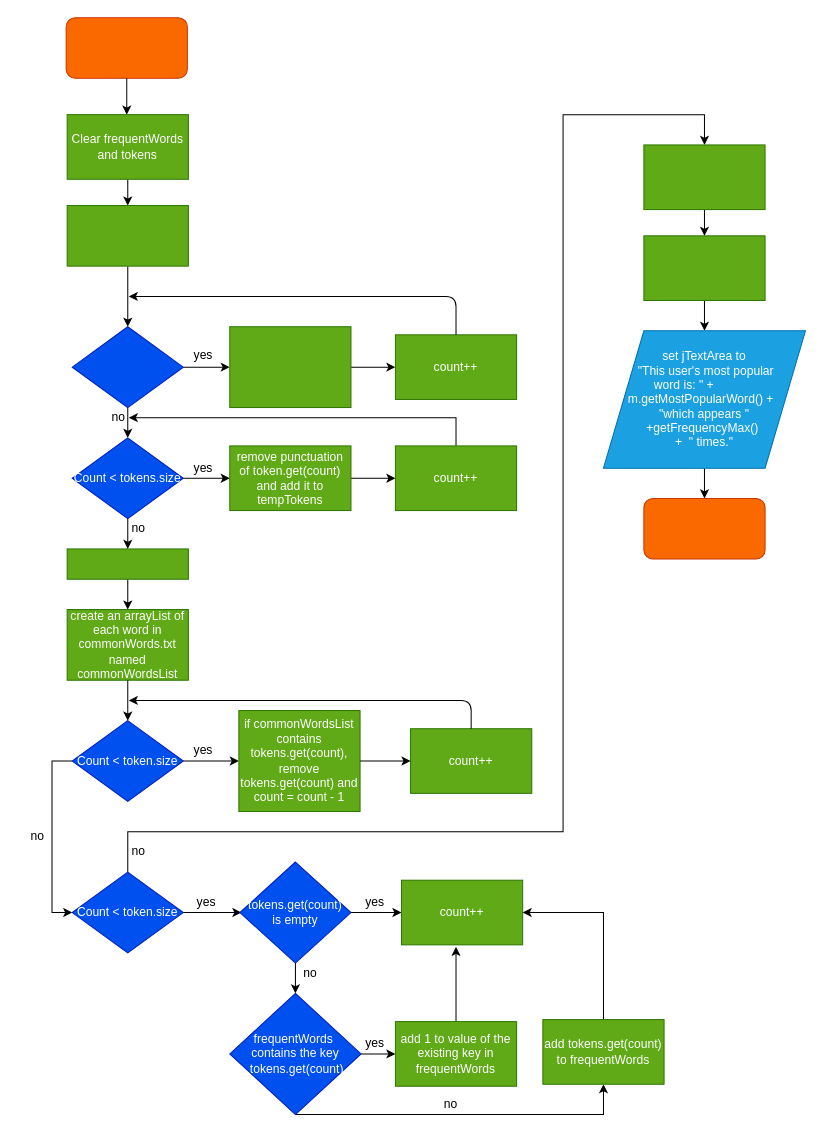
Some shapes in this 823 by 1140 pixel diagram are drawn without their labels. Each missing label, with the box of its shape:
Count < statuses.size: (71, 326, 183, 408)
End: (643, 497, 765, 559)
fetchTweets: get a list of statuses from an inputted user on twitter: (66, 205, 188, 266)
frequencyMax = highest value in frequentWords: (643, 144, 765, 210)
popularWord = key in frequentWords with highest value: (643, 235, 765, 300)
split statuses.get(count) into individual words and add them all to tokens: (229, 326, 351, 408)
Start: (65, 17, 187, 78)
tokens = tempTokens: (66, 548, 188, 579)
